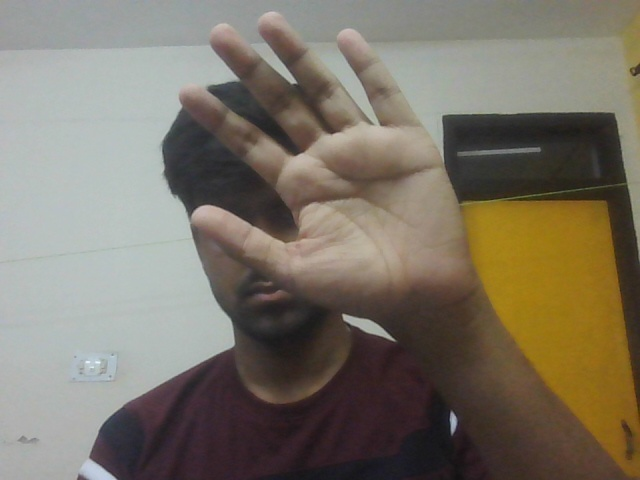hello: (170, 8, 526, 370)
